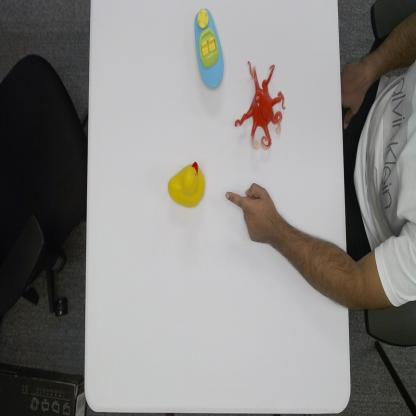Arm: (281, 208, 354, 315)
Boat: (193, 6, 225, 91)
Duck: (166, 160, 206, 210)
Hand: (223, 183, 278, 245)
Octopus: (234, 58, 286, 152)
